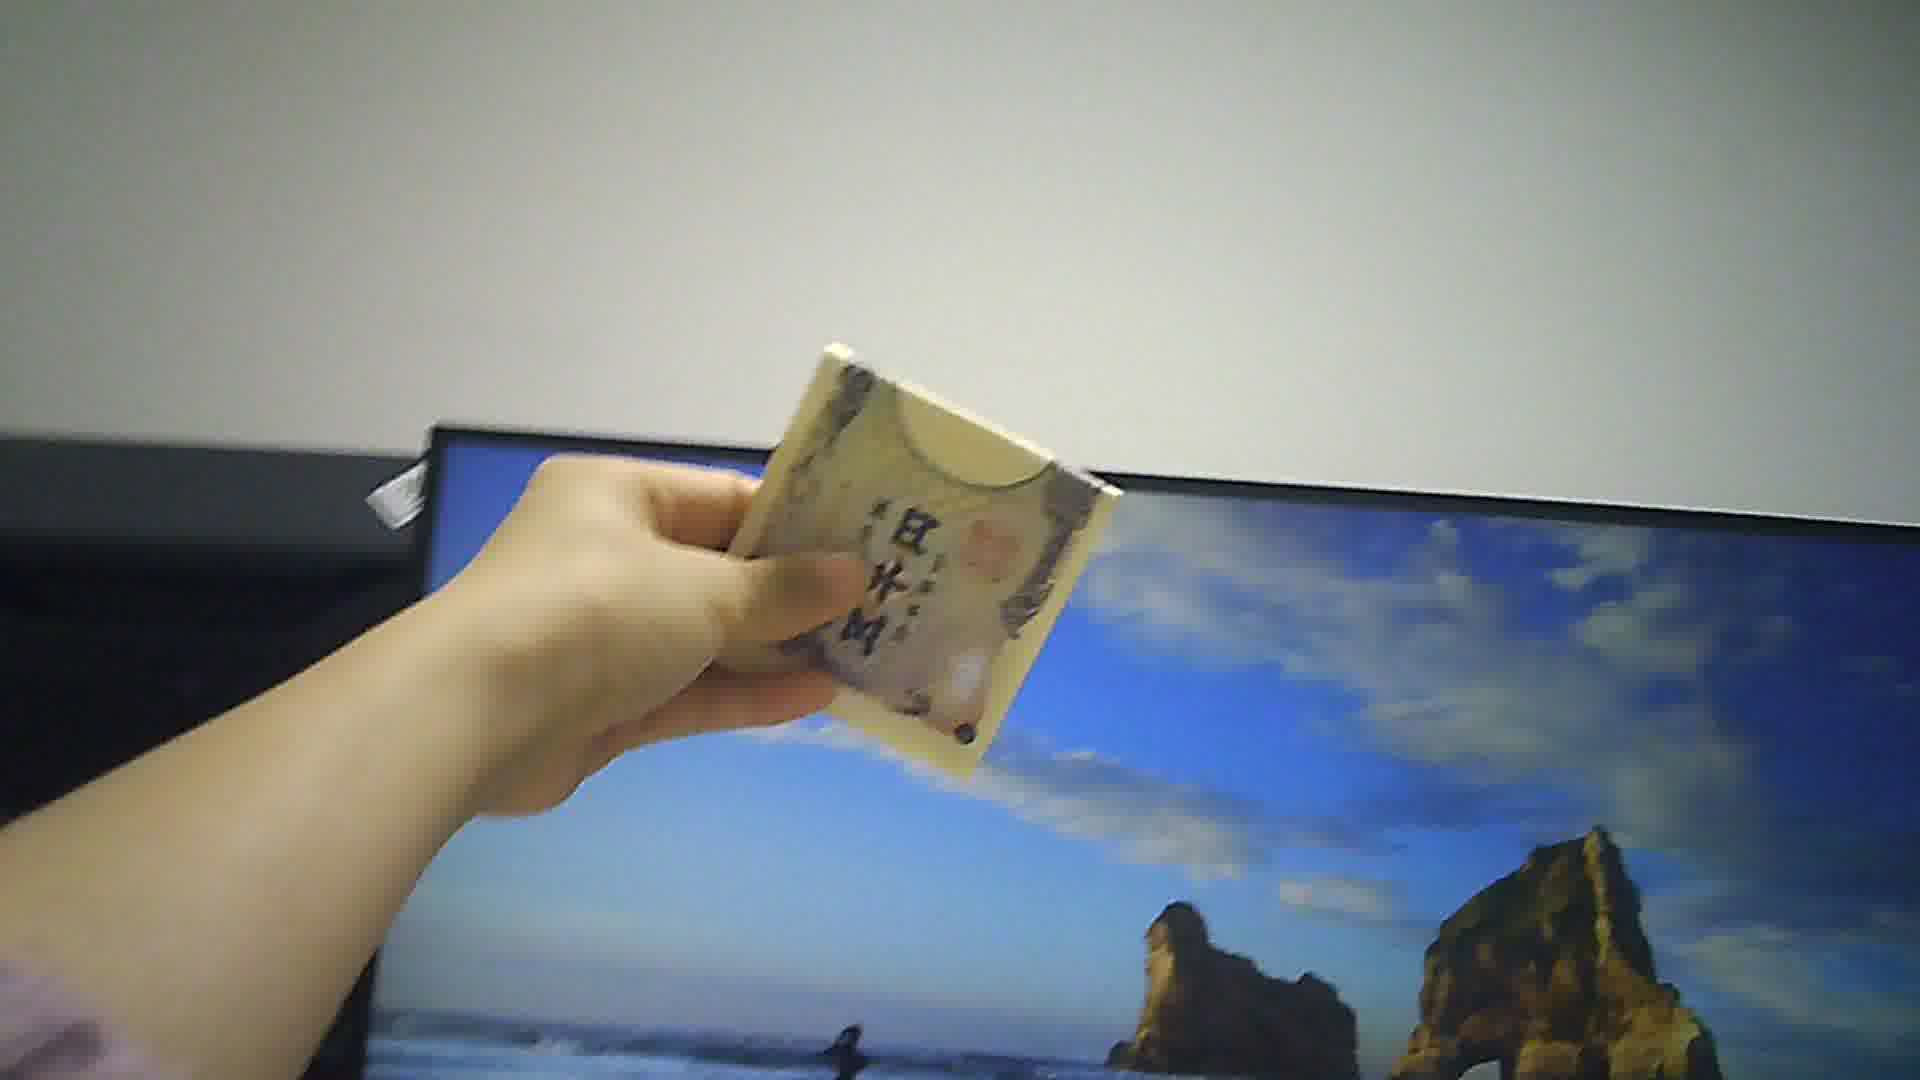5,000 Yen: (704, 336, 1124, 785)
